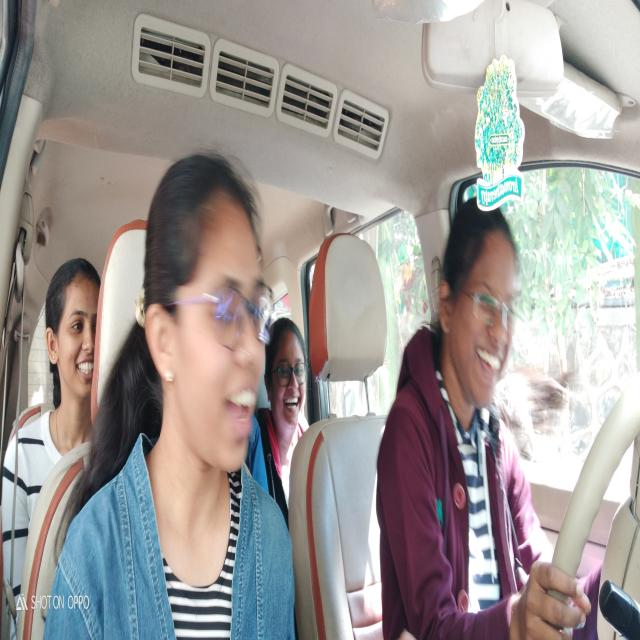person: (142, 143, 276, 478), (434, 192, 521, 418), (44, 254, 100, 400), (269, 321, 304, 429)
